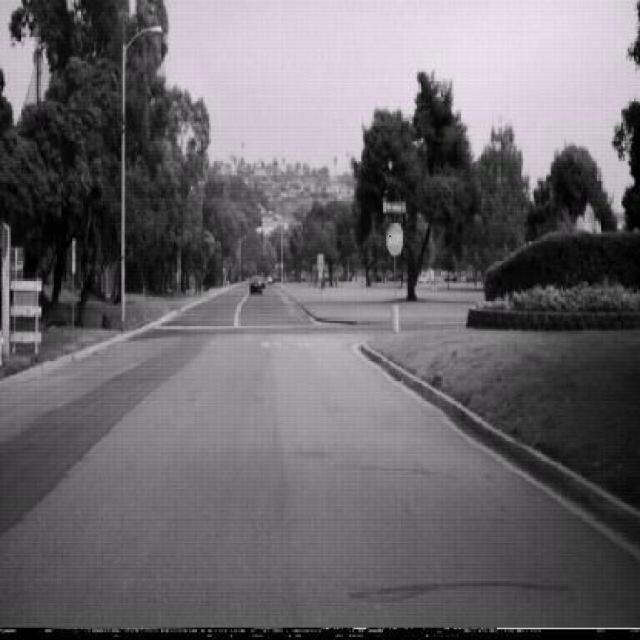stop: (386, 220, 405, 255)
